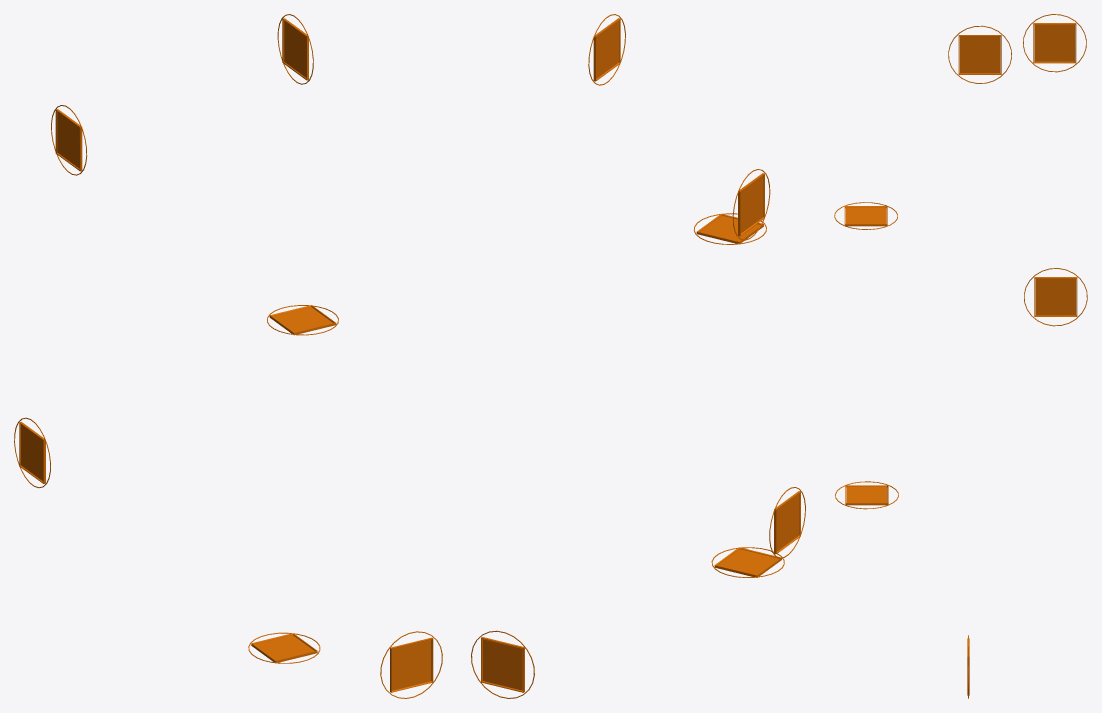
The model's file is cubes_gyro.fbx.
3 views of the same model, side by side, from view 1: azimuth 30°, elevation 25°; view 2: azimuth 150°, elevation 25°; view 3: azimuth 270°, elevation 25° (orthographic). The views are drawn at different scales.
Visible parts, largest first — view 1: cube_landmark_gyro; view 2: cube_landmark_gyro; view 3: cube_landmark_gyro.
Boxes of the visible parts, left/top/right/bottom form: cube_landmark_gyro: left=14, top=14, right=442, bottom=698; cube_landmark_gyro: left=471, top=14, right=805, bottom=698; cube_landmark_gyro: left=834, top=14, right=1087, bottom=698.
Bounding box in the file's own units: 159 × 295 × 109.
